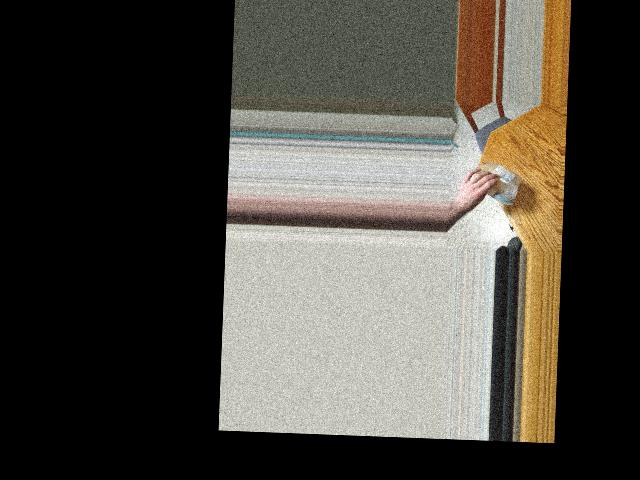cheese: (476, 163, 517, 193)
